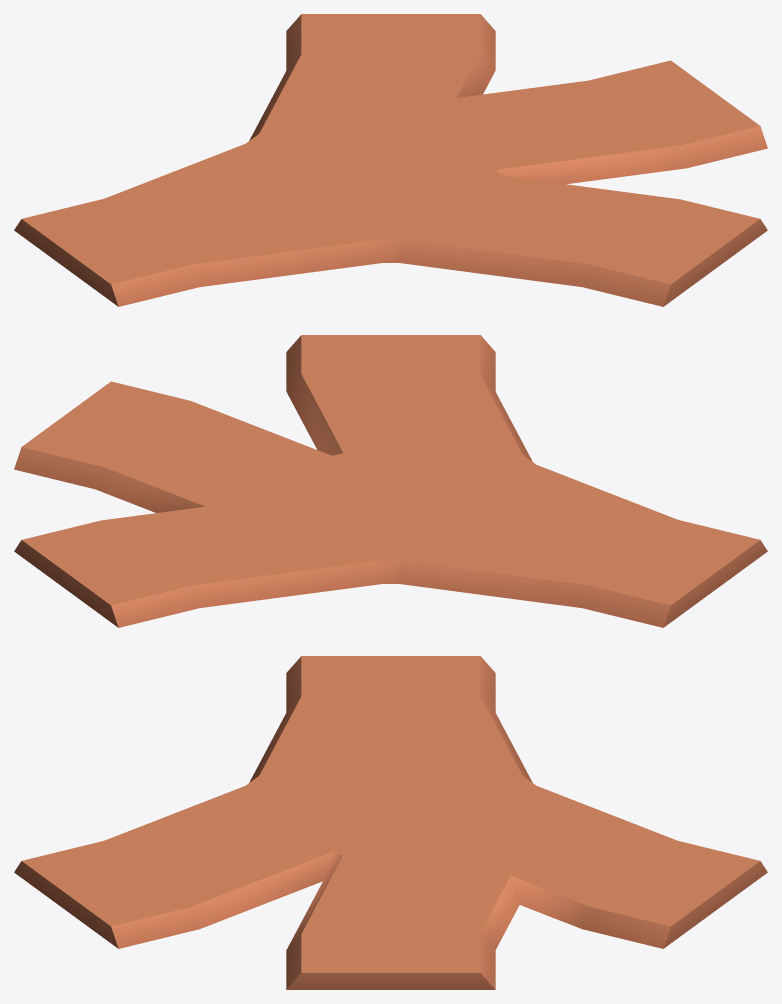
Rendered from kenney-hexagon-path-intersectiond.glb.
3 renders of one model, top to bottom at view 1: azimuth 30°, elevation 25°; view 2: azimuth 150°, elevation 25°; view 3: azimuth 270°, elevation 25°, orthographic.
Visible parts, largest first — view 1: path_intersectionD; view 2: path_intersectionD; view 3: path_intersectionD.
Boxes of the visible parts, x1,y1,x2,y2 form: path_intersectionD: [14, 14, 767, 306]; path_intersectionD: [14, 335, 767, 627]; path_intersectionD: [14, 656, 767, 989].
Bounding box in the file's own units: 1 × 0.025 × 1.01.
Materials: 1 (1 with a texture image).
